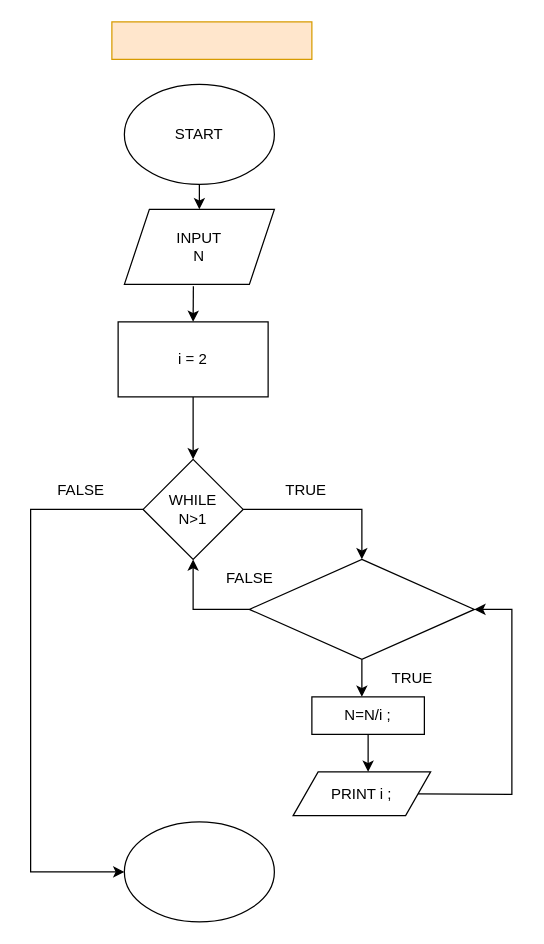
The diagram is 544 pixels wide and 944 high, and some of its shapes have lost their labels. Here are the shapes that lost their labels. From the top down, the box of each, then its label:
(111, 21, 312, 59): Prime Factors PROGRAM
(248, 558, 474, 659): WHILE N%i == 0
(123, 821, 274, 922): STOP
